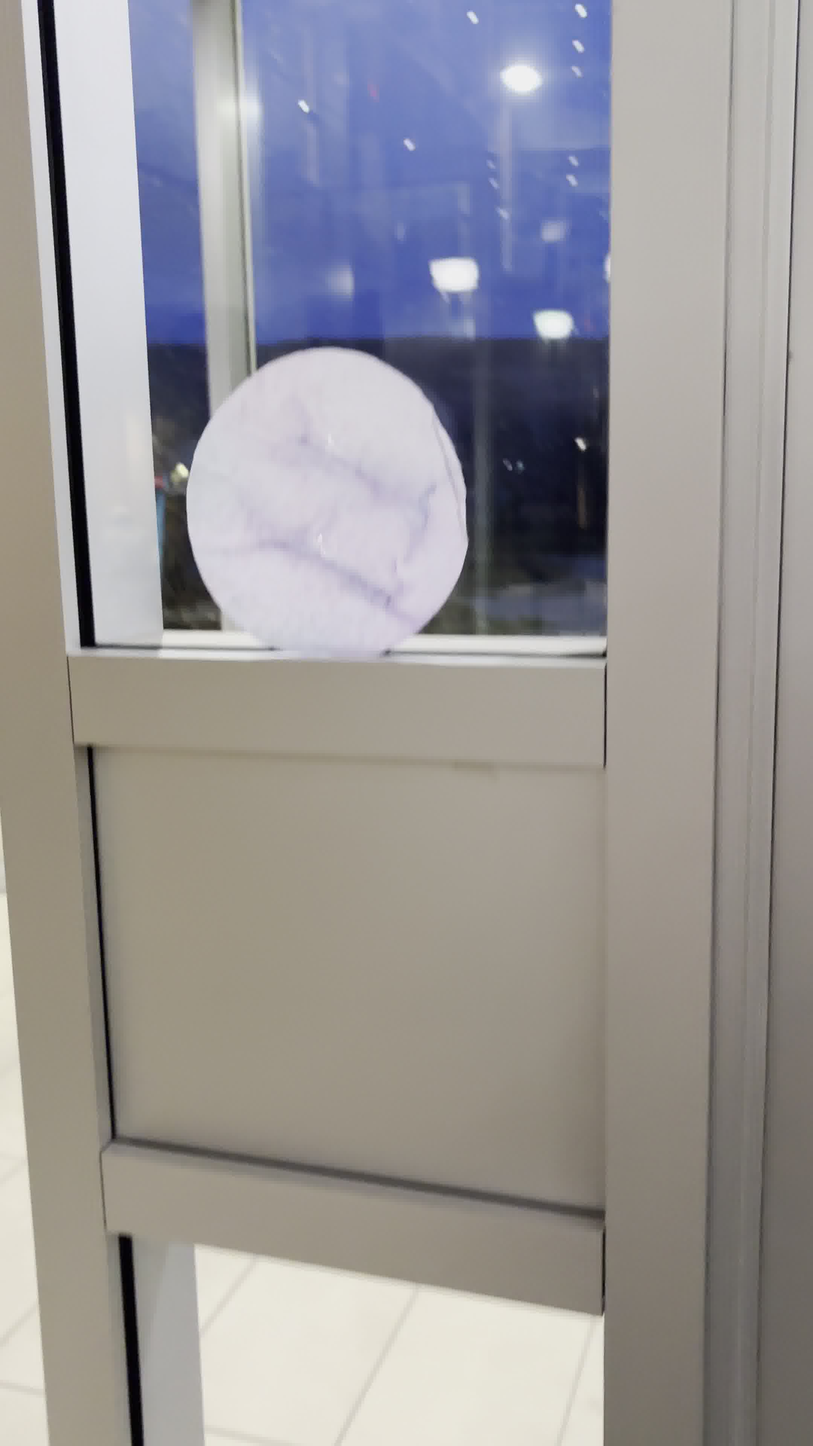Target: (181, 337, 473, 664)
